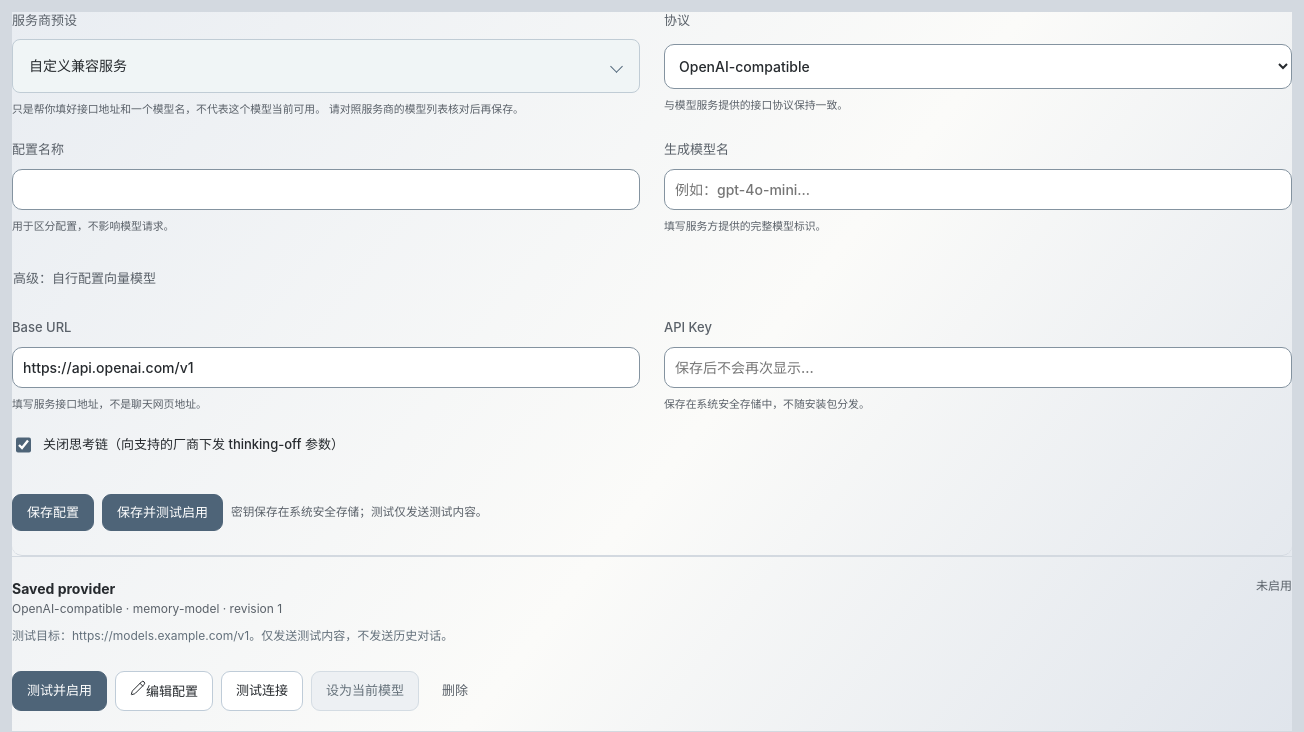
ModelSettings › edits an existing custom profile without creating another UUID or refilling the stored key
(page scrolled)
Click the button "编辑配置" at coordinates (164, 691), box top-left (115, 671), bottom-right (213, 711)
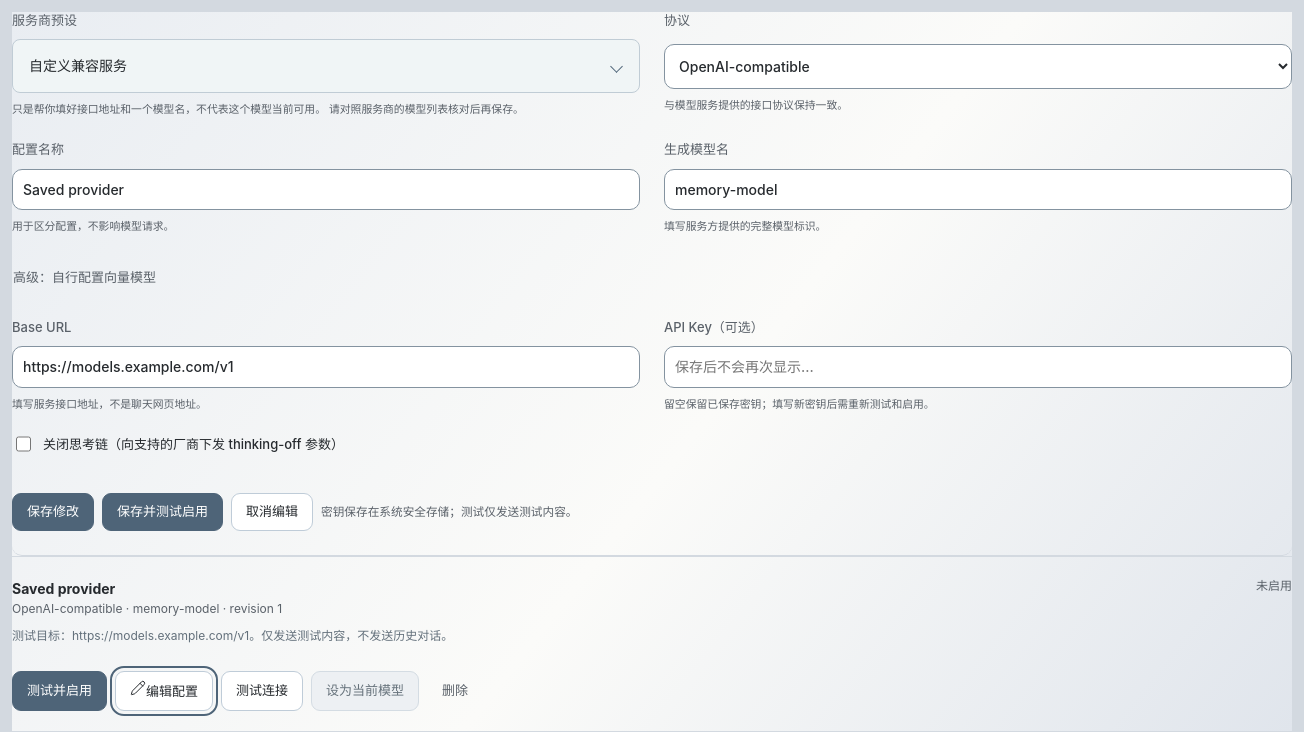
Result: the field labelled "生成模型名" holds "memory-model" at top-left (664, 168), bottom-right (1292, 210)
Result: the field labelled "Base URL" holds "https://models.example.com/v1" at top-left (12, 346), bottom-right (640, 388)
Result: the field labelled "配置名称" holds "Saved provider" at top-left (12, 168), bottom-right (640, 210)
Click the button "保存修改" at coordinates (53, 512), box top-left (12, 493), bottom-right (94, 531)
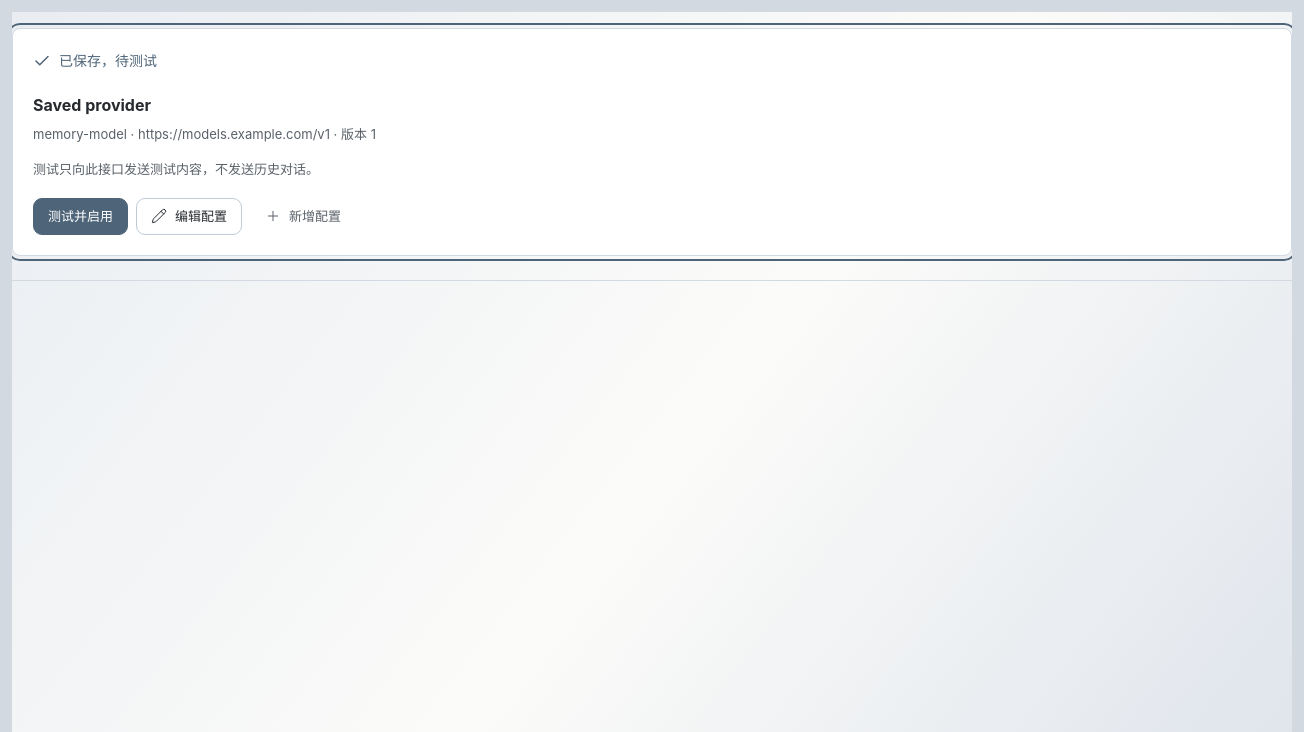
Result: the element named "已保存的模型配置" shows "版本 1" at top-left (12, 28), bottom-right (1292, 256)
